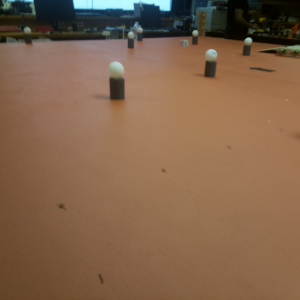corner: (198, 14, 205, 37)
obstacle: (108, 61, 126, 100), (206, 51, 217, 75), (241, 37, 252, 57), (126, 31, 136, 48), (24, 28, 32, 44), (135, 27, 144, 40), (193, 28, 198, 48)
start: (249, 65, 274, 75)
